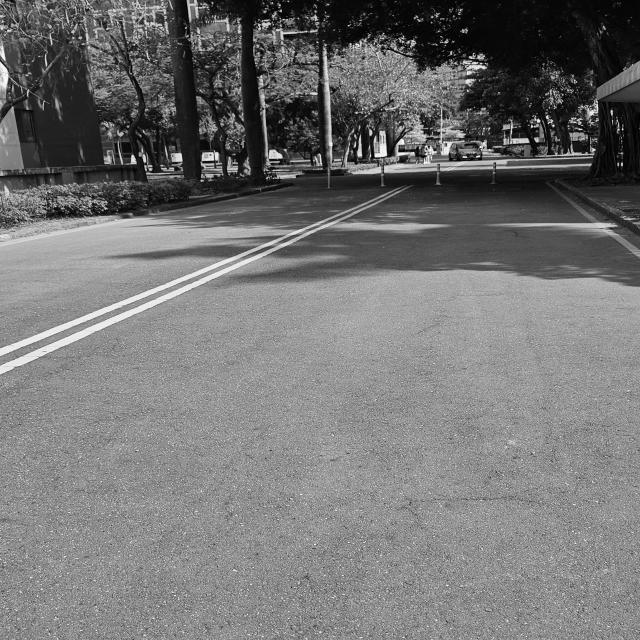Road-Object: (0, 157, 640, 640)
